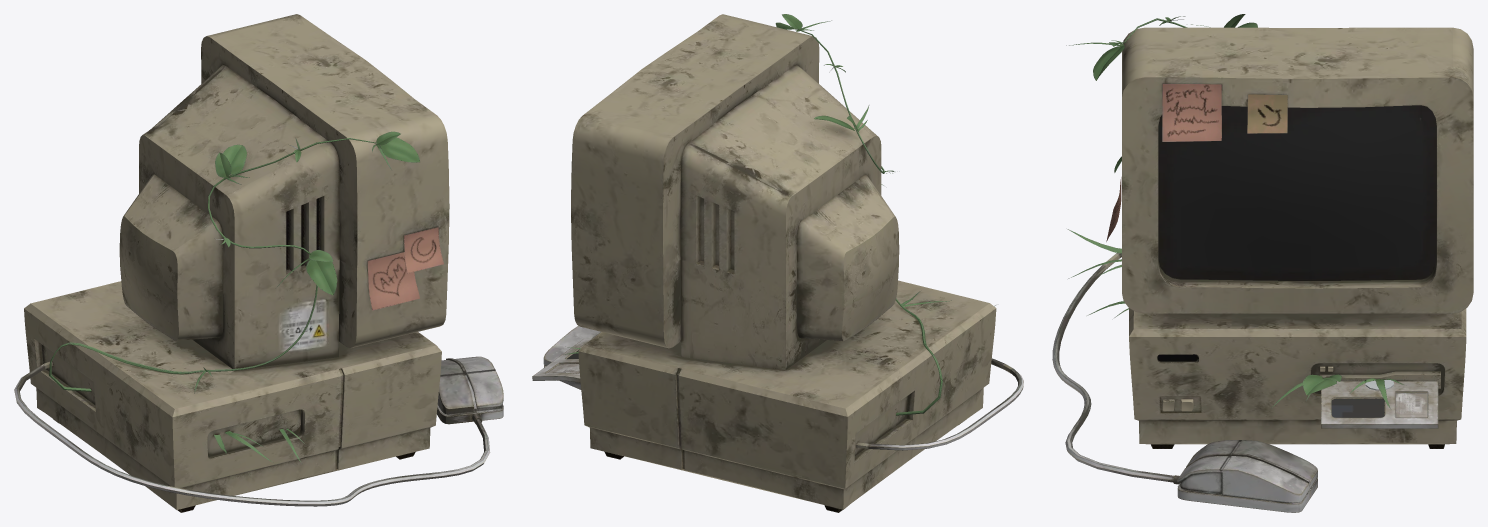
Rendered from old_pc.glb.
3 views of the same model, side by side, from view 1: azimuth 30°, elevation 25°; view 2: azimuth 150°, elevation 25°; view 3: azimuth 270°, elevation 25° (orthographic). The views are drawn at different scales.
Parts seen in each view (by area): view 1: defaultMaterial (×2); view 2: defaultMaterial (×2); view 3: defaultMaterial (×2).
Part boxes in pixels (x1,y1,x2,y2): defaultMaterial (×2): (14, 14, 503, 512); defaultMaterial (×2): (532, 14, 1023, 512); defaultMaterial (×2): (1052, 14, 1473, 512).
Size of the model in its own units: 0.7 by 0.5282 by 0.5197.
2 materials, 2 textured.
